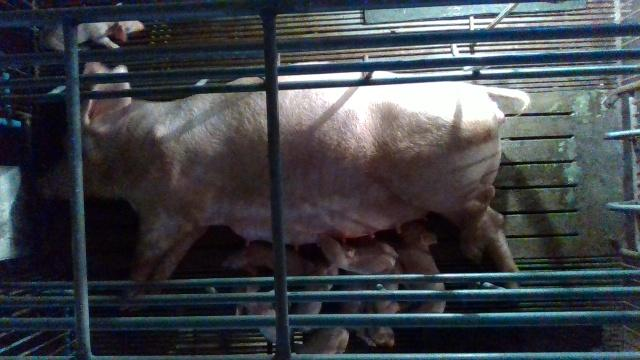piglet: (399, 223, 446, 312), (317, 232, 398, 274), (43, 20, 146, 50), (297, 262, 339, 314), (245, 285, 276, 344), (298, 329, 349, 354), (223, 244, 272, 268)
sow-sleep-lactate: (45, 58, 519, 284)
